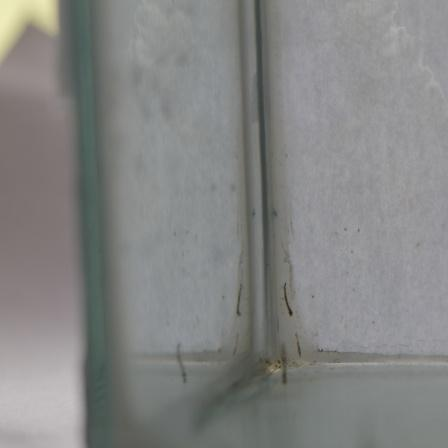Jentik-Nyamuk: (279, 281, 298, 321)
